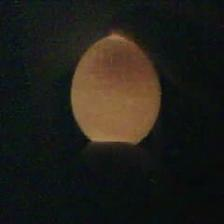infertile: (69, 33, 163, 147)
